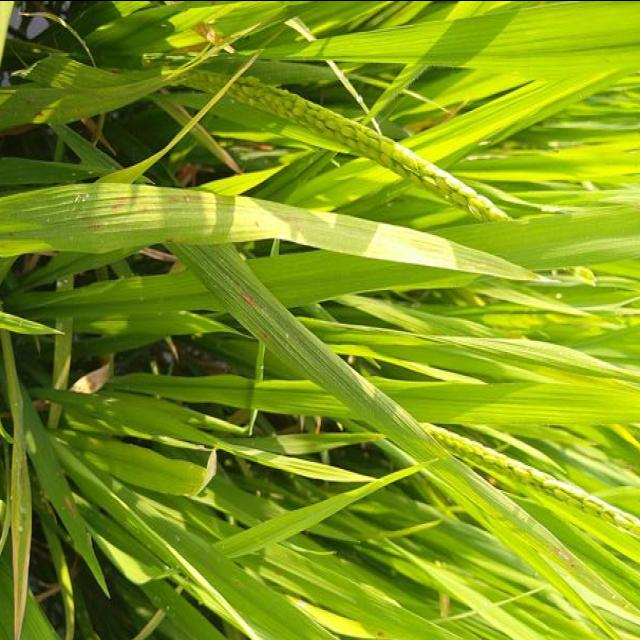Leaf Streak: (86, 183, 454, 268), (557, 548, 577, 562), (256, 324, 274, 338), (241, 296, 255, 310)
